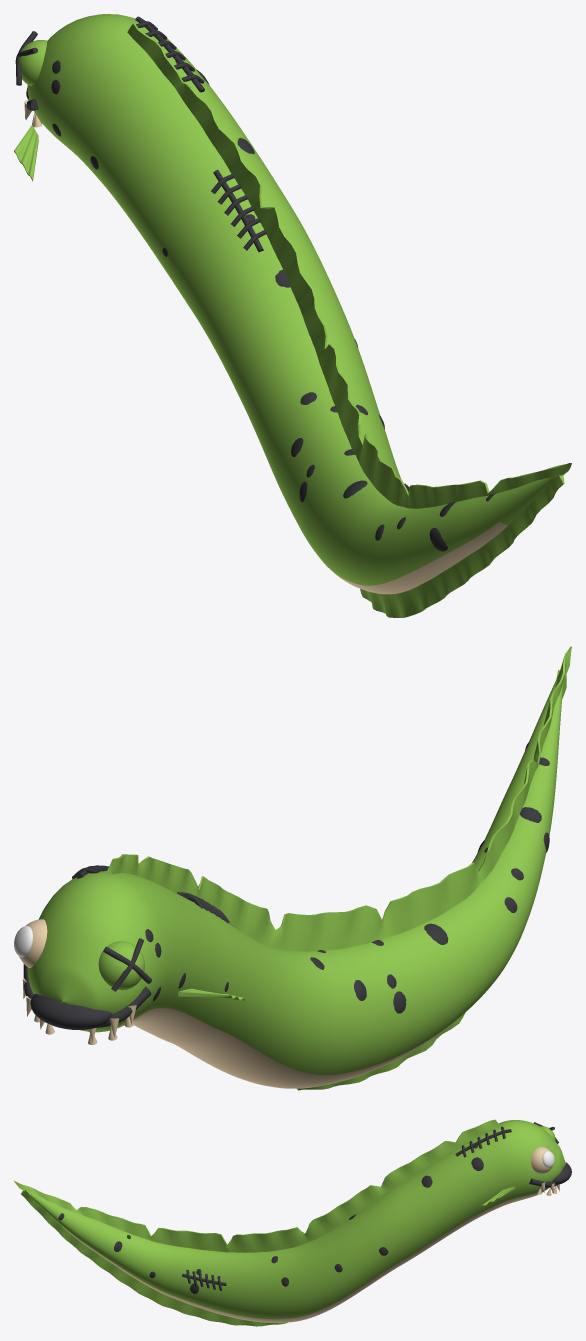
File: FISH_ZOMBIEEEL.glb
3 views of the same model, one above another, from view 1: azimuth 30°, elevation 25°; view 2: azimuth 150°, elevation 25°; view 3: azimuth 270°, elevation 25° (orthographic). The views are drawn at different scales.
Parts seen in each view (by area): view 1: Body_skin, Fin_Dorsal, Fin_Anal, Body_belly, Eyelid_Shut, Fin_Pectoral; view 2: Body_skin, Fin_Dorsal, Body_belly, Mouth_Gape, Eyelid_Shut, Fin_Anal, Eye_White; view 3: Body_skin, Fin_Dorsal, Fin_Anal, Body_belly, Eye_White.
Part boxes in pixels (bbox=[...]): Body_skin: bbox=[27, 14, 553, 585]; Fin_Dorsal: bbox=[127, 23, 571, 508]; Fin_Anal: bbox=[360, 472, 564, 617]; Body_belly: bbox=[334, 522, 508, 594]; Eyelid_Shut: bbox=[19, 40, 47, 85]; Fin_Pectoral: bbox=[14, 125, 38, 181]; Body_skin: bbox=[27, 675, 563, 1074]; Fin_Dorsal: bbox=[106, 646, 571, 951]; Body_belly: bbox=[107, 1008, 460, 1088]; Mouth_Gape: bbox=[30, 993, 112, 1029]; Eyelid_Shut: bbox=[98, 941, 144, 990]; Fin_Anal: bbox=[297, 670, 566, 1090]; Eye_White: bbox=[19, 919, 47, 967]; Body_skin: bbox=[27, 1120, 565, 1319]; Fin_Dorsal: bbox=[14, 1119, 499, 1252]; Fin_Anal: bbox=[21, 1190, 287, 1326]; Body_belly: bbox=[62, 1193, 537, 1322]; Eye_White: bbox=[531, 1146, 552, 1173].
Bounding box in the file's own units: 0.9016 × 1.64 × 3.97.
